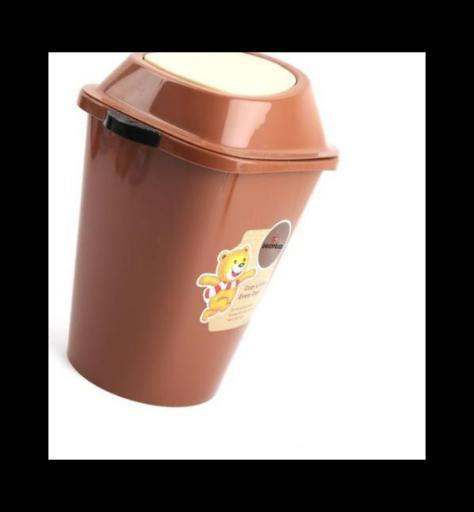Bote de Basura: (67, 59, 324, 407)
